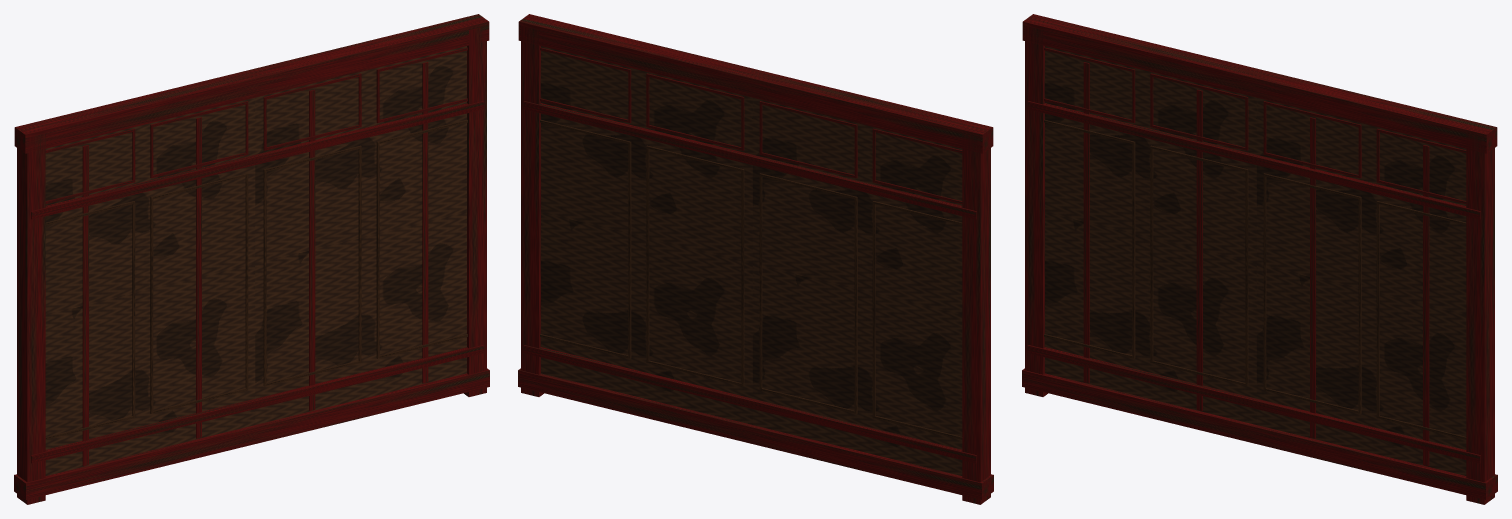
The model's file is wall_wood.glb.
3 views of the same model, side by side, from view 1: azimuth 30°, elevation 25°; view 2: azimuth 150°, elevation 25°; view 3: azimuth 330°, elevation 25° (orthographic).
Parts seen in each view (by area): view 1: Panel, FrameT, Art_BurntLacquer, FrameS-1, FrameB, Art_WarmWood, FrameS1, PanelDiv3, PanelDiv2, PanelDiv0, PanelDiv1; view 2: Panel, FrameT, Art_BurntLacquer, FrameS-1, FrameB, Art_WarmWood, FrameS1; view 3: Panel, FrameT, Art_BurntLacquer, FrameS1, FrameB, Art_WarmWood, FrameS-1, PanelDiv0, PanelDiv1, PanelDiv3, PanelDiv2.
Boxes of the visible parts, left/top/right/bottom form: Panel: left=45, top=46, right=466, bottom=475; FrameT: left=14, top=14, right=489, bottom=153; Art_BurntLacquer: left=31, top=47, right=484, bottom=463; FrameS-1: left=17, top=133, right=45, bottom=504; FrameB: left=14, top=368, right=489, bottom=499; Art_WarmWood: left=45, top=120, right=467, bottom=439; FrameS1: left=464, top=26, right=486, bottom=396; PanelDiv3: left=422, top=62, right=428, bottom=383; PanelDiv2: left=309, top=89, right=315, bottom=410; PanelDiv0: left=82, top=145, right=88, bottom=466; PanelDiv1: left=196, top=117, right=201, bottom=438; Panel: left=541, top=46, right=962, bottom=475; FrameT: left=518, top=14, right=993, bottom=153; Art_BurntLacquer: left=523, top=47, right=976, bottom=463; FrameS-1: left=962, top=133, right=990, bottom=504; FrameB: left=518, top=368, right=993, bottom=499; Art_WarmWood: left=540, top=120, right=962, bottom=439; FrameS1: left=521, top=26, right=543, bottom=396; Panel: left=1045, top=46, right=1466, bottom=475; FrameT: left=1022, top=14, right=1497, bottom=153; Art_BurntLacquer: left=1027, top=47, right=1480, bottom=463; FrameS1: left=1466, top=133, right=1494, bottom=504; FrameB: left=1022, top=368, right=1497, bottom=499; Art_WarmWood: left=1044, top=120, right=1466, bottom=439; FrameS-1: left=1025, top=26, right=1047, bottom=396; PanelDiv0: left=1083, top=62, right=1089, bottom=383; PanelDiv1: left=1196, top=89, right=1202, bottom=410; PanelDiv3: left=1423, top=145, right=1429, bottom=466; PanelDiv2: left=1310, top=117, right=1315, bottom=438.
Size of what is drawn, in the model's own units: 4.1 by 3.13 by 0.186.
4 materials, 4 textured.
